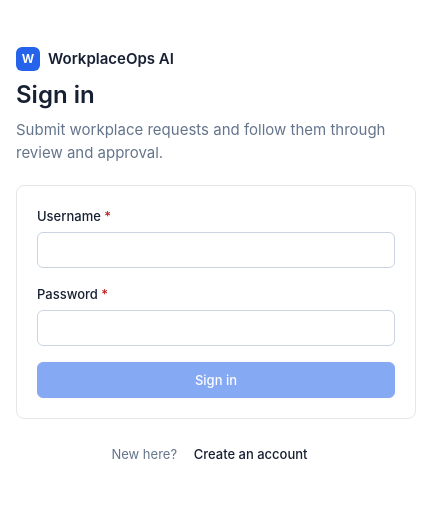
it: login flow › shows the server's safe error on bad credentials
The width and height of the screenshot is (433, 508).
Type "x" into the field labelled "Username" at (216, 250), box [37,232,395,268]
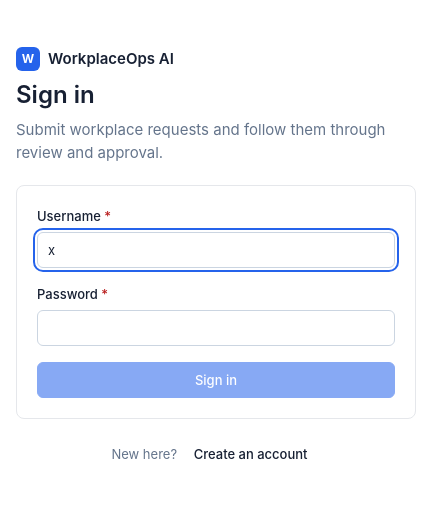
Type "y" into the password field labelled "Password" at (216, 328), box [37,310,395,346]
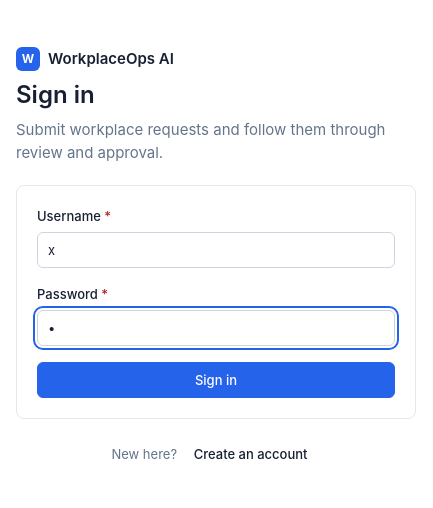
Click the button "Sign in" at (216, 380), box [37,362,395,398]
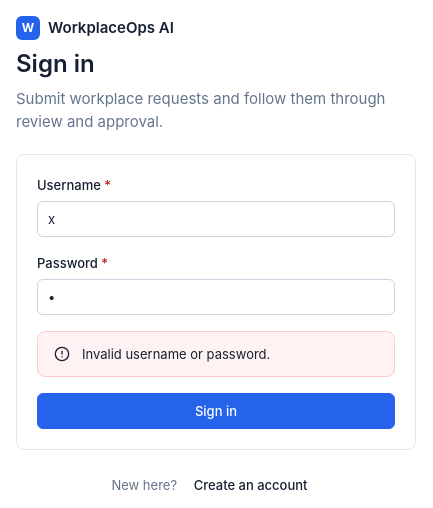
Check: the message reads "Invalid username or password.", box [82,346,270,362]
